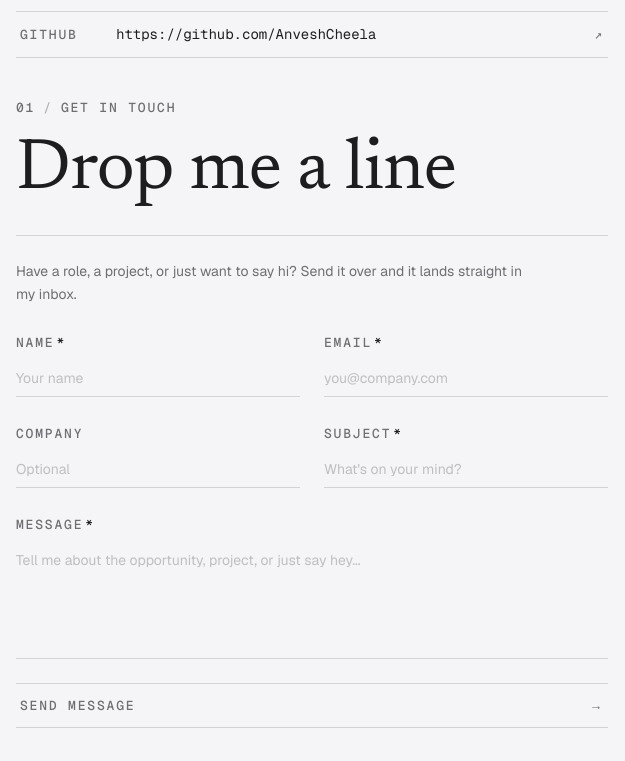
Test: ContactApp validation › blocks submit and surfaces per-field errors when empty
(page scrolled)
Click the button "Send message →": (78, 705) [16, 684, 608, 727]
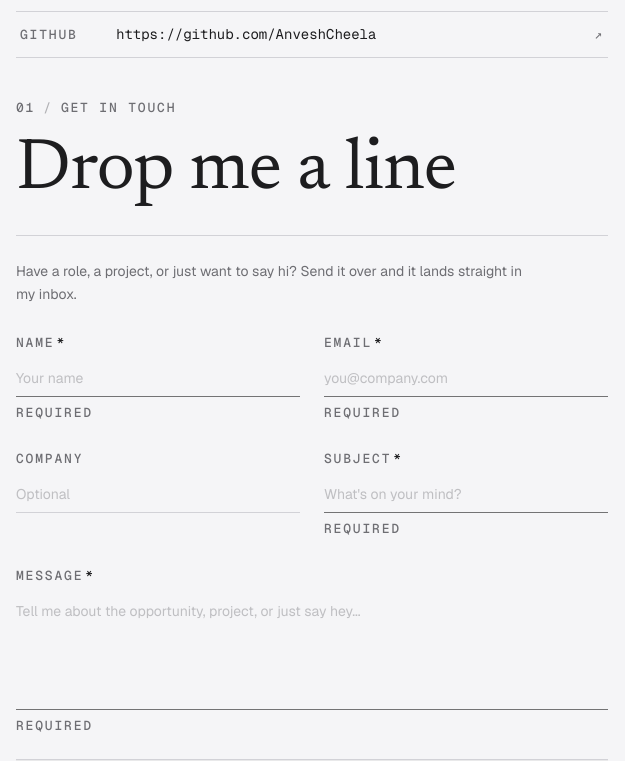
Expected: the text "Required" below "Name" is shown, [16, 404, 93, 420]
